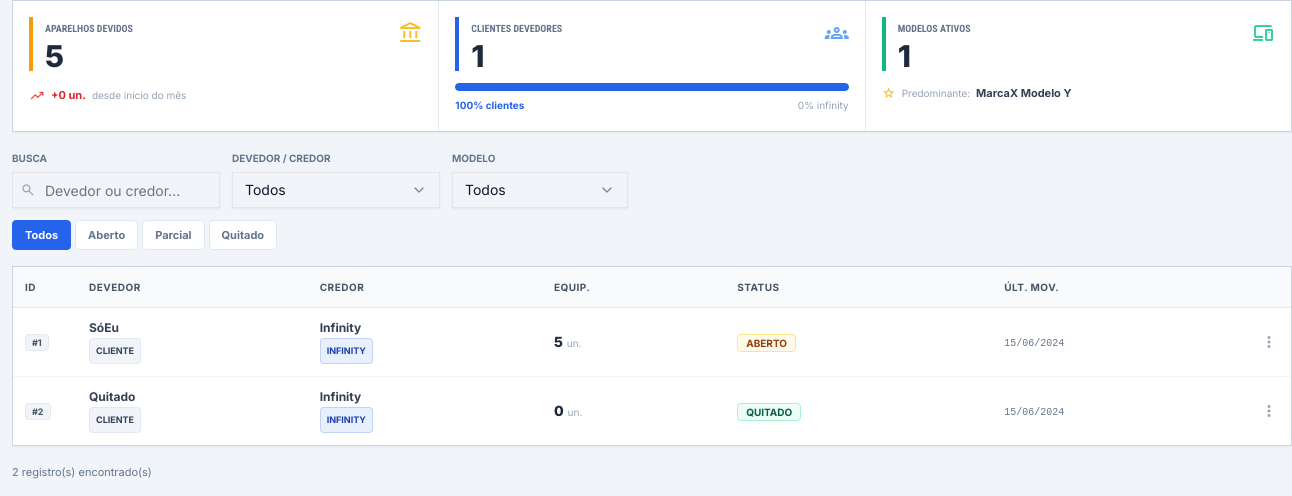
Test: DebitosEquipamentosPage (integração) › carrega, exibe rodapé com contagem e filtra por busca
expect the text "2 registro(s) encontrado(s)" is shown: met, box [12, 465, 152, 479]
Type "Quitado" into the field with placeholder "Devedor ou credor..." at [116, 190], box [12, 172, 220, 208]
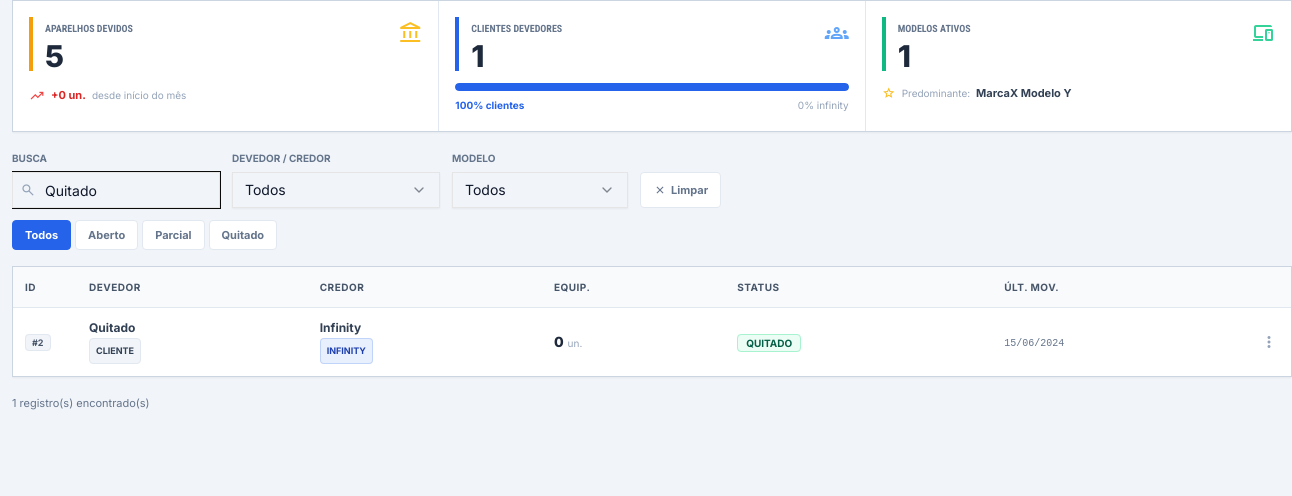
expect the text "1 registro(s) encontrado(s)" is shown: met, box [12, 396, 150, 410]
